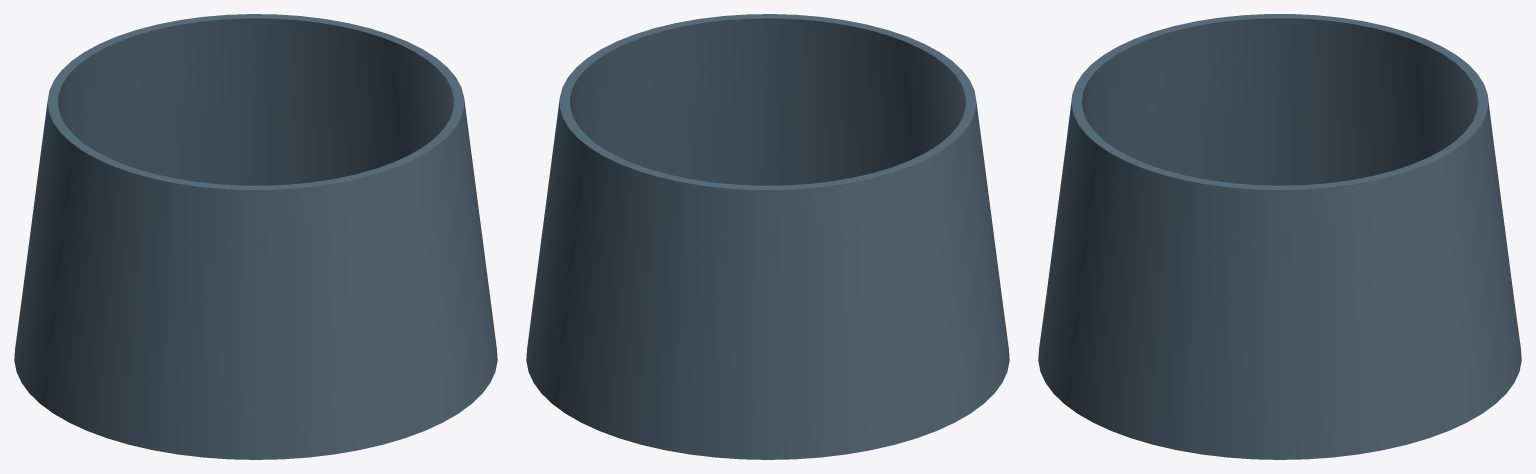
Rendered from perehod-377x10-325x8-L220.glb.
3 renders of one model, left to right at view 1: azimuth 30°, elevation 25°; view 2: azimuth 150°, elevation 25°; view 3: azimuth 270°, elevation 25°, orthographic.
Parts seen in each view (by area): view 1: Open CASCADE STEP translator 7.9 61; view 2: Open CASCADE STEP translator 7.9 61; view 3: Open CASCADE STEP translator 7.9 61.
Boxes of the visible parts, <box> form: Open CASCADE STEP translator 7.9 61: <box>14,14,497,459</box>; Open CASCADE STEP translator 7.9 61: <box>526,14,1009,459</box>; Open CASCADE STEP translator 7.9 61: <box>1038,14,1521,459</box>.
Bounding box in the file's own units: 377 × 220 × 377.
